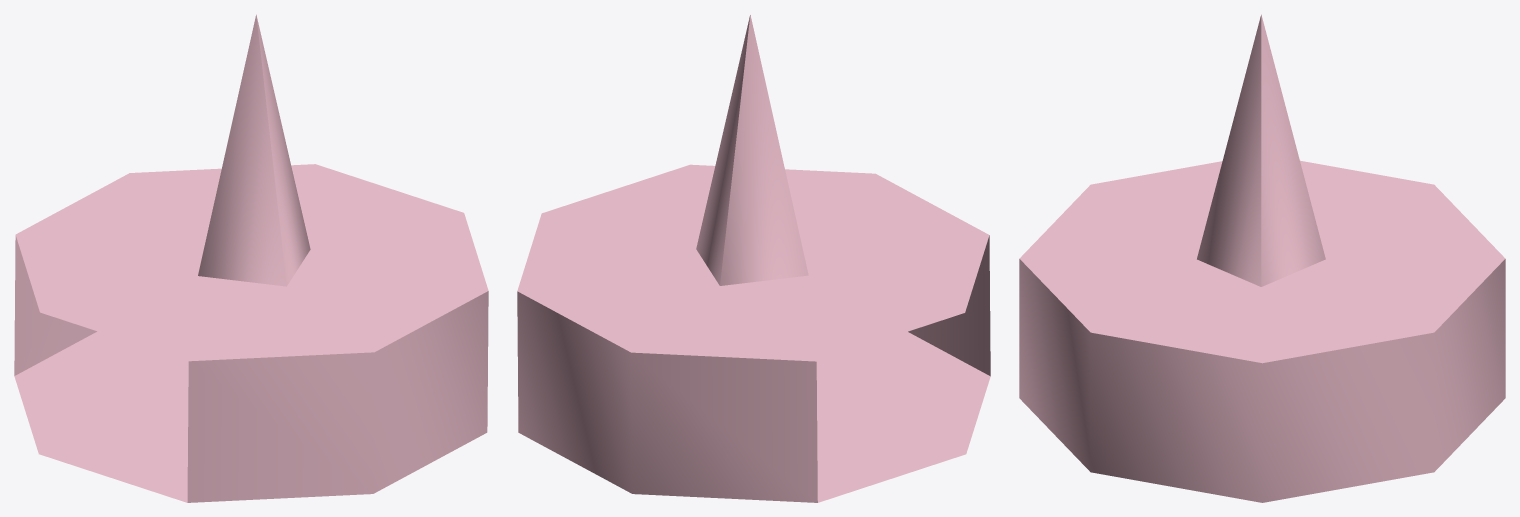
3 views of the same model, side by side, from view 1: azimuth 30°, elevation 25°; view 2: azimuth 150°, elevation 25°; view 3: azimuth 270°, elevation 25° (orthographic).
Parts seen in each view (by area): view 1: Object48; view 2: Object48; view 3: Object48.
Boxes of the visible parts, box(x1,y1,x2,y2) form: Object48: box(14, 14, 488, 502); Object48: box(517, 15, 990, 502); Object48: box(1019, 14, 1505, 502).
Bounding box in the file's own units: 112 × 98.62 × 112.
